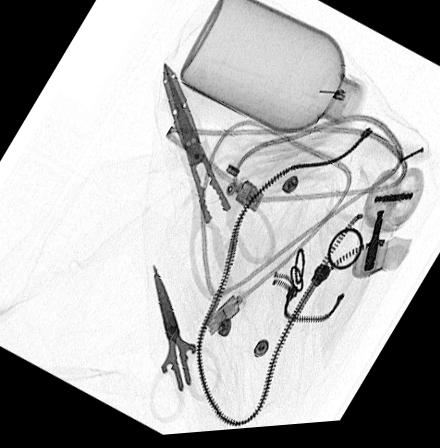Scissors: (155, 59, 279, 312), (143, 260, 219, 428)
